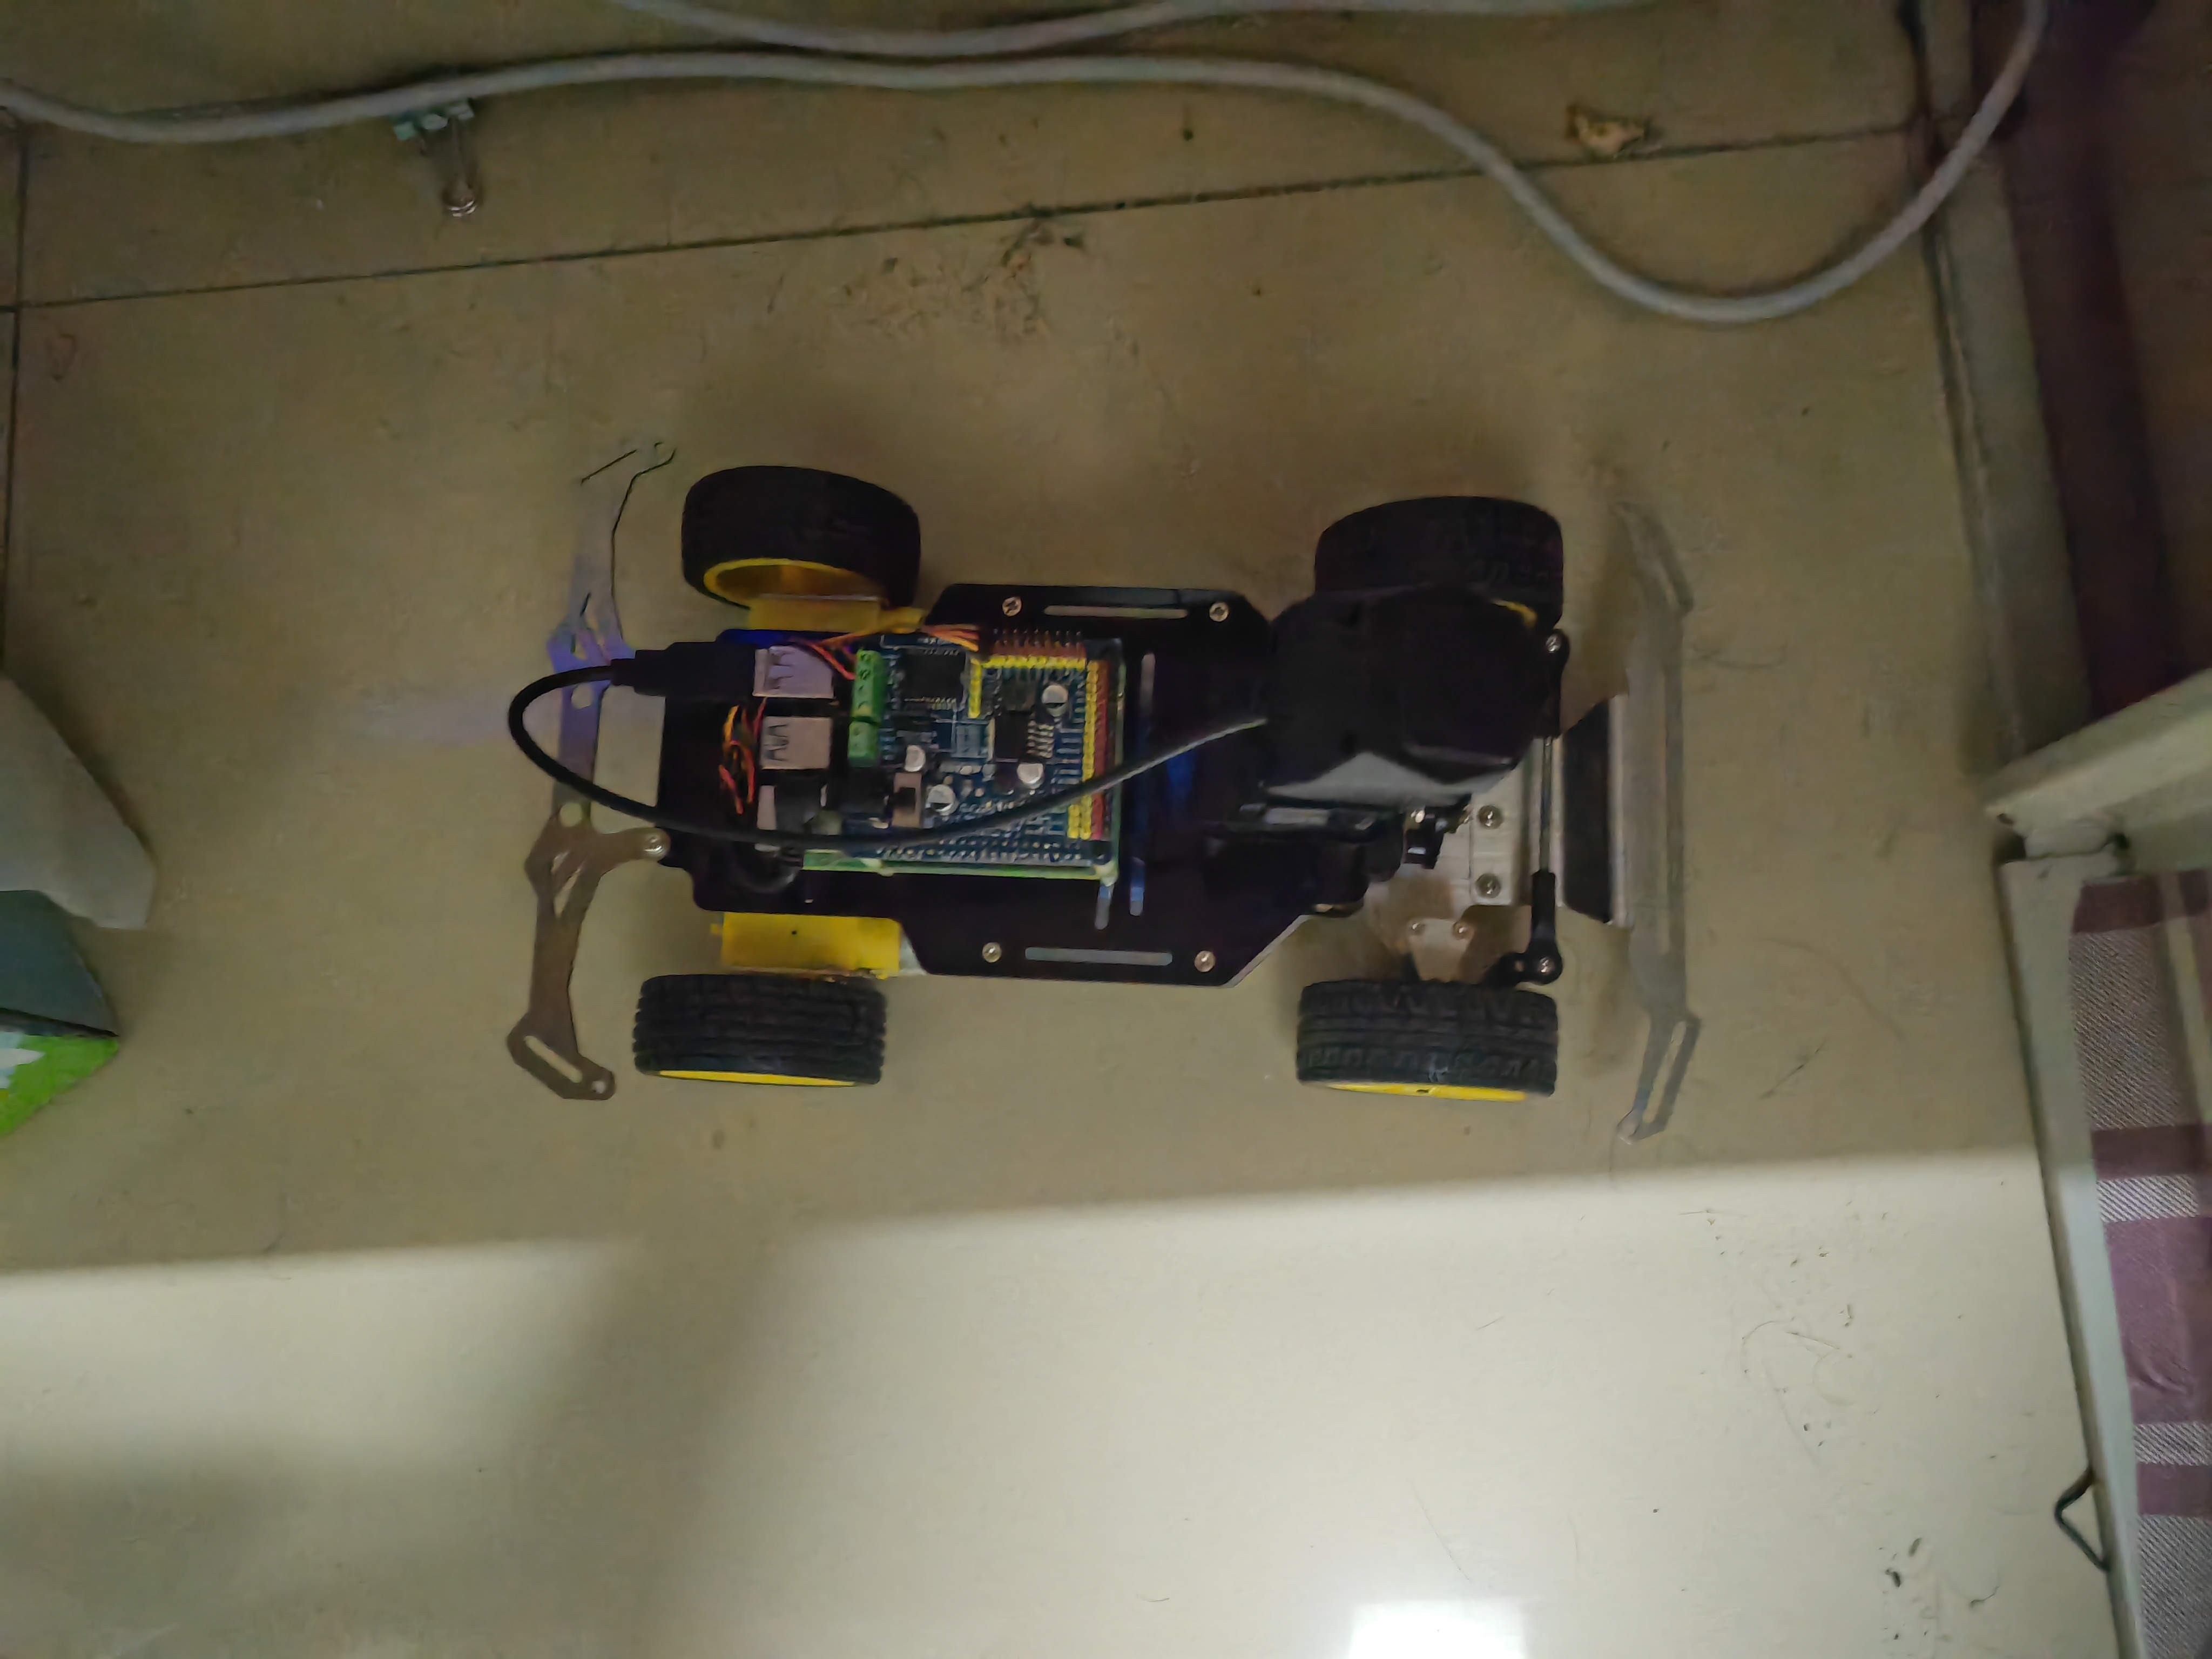car: (486, 399, 1730, 1176)
